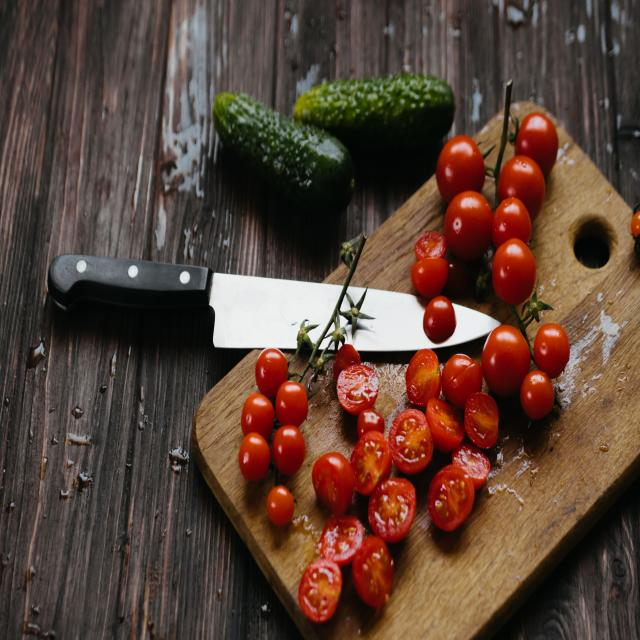Tomato: (432, 468, 478, 540), (385, 399, 435, 463), (344, 427, 387, 489), (373, 481, 418, 537), (303, 554, 337, 618)
